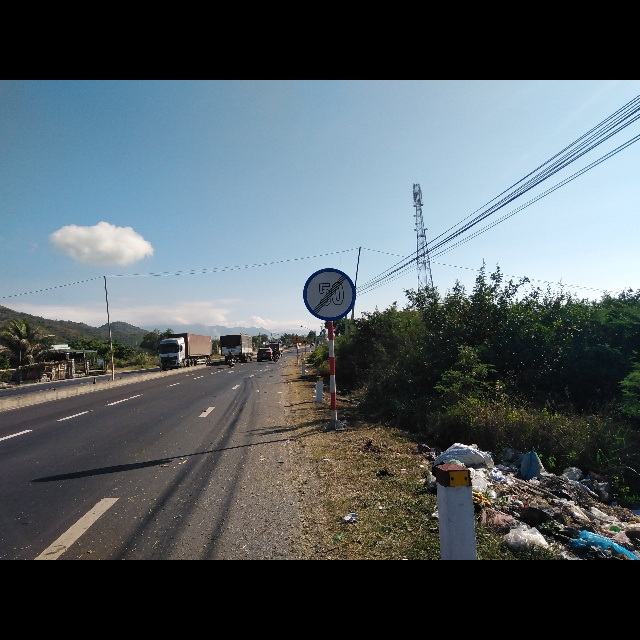Hết hạn chế tốc độ tối đa 50km/h: (301, 266, 358, 326)
